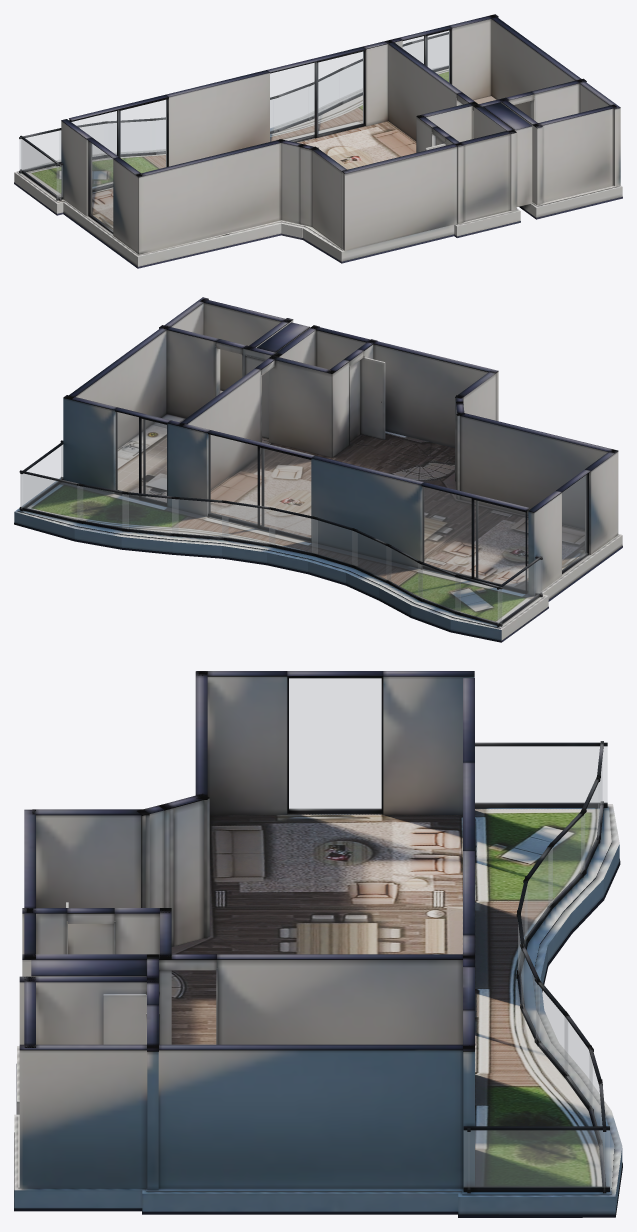
3 renders of one model, top to bottom at view 1: azimuth 30°, elevation 25°; view 2: azimuth 150°, elevation 25°; view 3: azimuth 270°, elevation 25°, orthographic. The views are drawn at different scales.
Visible parts, largest first — view 1: plan, glass1_m, glass0_m, glass3_m, glass2_m, railg12_m, railg0_m, railg2_m, railg6_m, railg10_m, railg7_m, railg8_m; view 2: plan, glass0_m, glass1_m, glass2_m, railg10_m, railg8_m, glass3_m, railg7_m, railg6_m, railg9_m, railg5_m, railg0_m (+6 smaller); view 3: plan, glass3_m, railg11_m, railg12_m, railg2_m, railg7_m, railg8_m, railg3_m, railg6_m, railg1_m.
Boxes of the visible parts, left/top/right/bottom form: plan: left=14, top=14, right=622, bottom=268; glass1_m: left=270, top=51, right=363, bottom=141; glass0_m: left=72, top=100, right=166, bottom=189; glass3_m: left=90, top=142, right=112, bottom=230; glass2_m: left=403, top=30, right=449, bottom=82; railg12_m: left=21, top=139, right=60, bottom=198; railg0_m: left=19, top=130, right=60, bottom=170; railg2_m: left=108, top=121, right=149, bottom=154; railg6_m: left=274, top=87, right=307, bottom=129; railg10_m: left=412, top=35, right=448, bottom=69; railg7_m: left=309, top=72, right=338, bottom=117; railg8_m: left=343, top=61, right=362, bottom=100; plan: left=14, top=297, right=622, bottom=642; glass0_m: left=422, top=487, right=525, bottom=589; glass1_m: left=208, top=434, right=310, bottom=537; glass2_m: left=115, top=412, right=166, bottom=502; railg10_m: left=20, top=474, right=82, bottom=520; railg8_m: left=122, top=494, right=178, bottom=533; glass3_m: left=562, top=475, right=586, bottom=570; railg7_m: left=172, top=499, right=227, bottom=537; railg6_m: left=222, top=503, right=274, bottom=544; railg9_m: left=77, top=486, right=128, bottom=528; railg5_m: left=269, top=510, right=317, bottom=553; railg0_m: left=455, top=577, right=501, bottom=623; plan: left=14, top=671, right=622, bottom=1217; glass3_m: left=289, top=678, right=381, bottom=809; railg11_m: left=464, top=1130, right=609, bottom=1187; railg12_m: left=475, top=746, right=607, bottom=803; railg2_m: left=549, top=814, right=584, bottom=906; railg7_m: left=536, top=983, right=567, bottom=1074; railg8_m: left=564, top=1017, right=592, bottom=1109; railg3_m: left=525, top=848, right=552, bottom=939; railg6_m: left=521, top=951, right=539, bottom=1041; railg1_m: left=581, top=782, right=599, bottom=873.
Bounding box in the file's own units: 13.72 × 2.62 × 8.98.
Materials: 2 (1 with a texture image).
